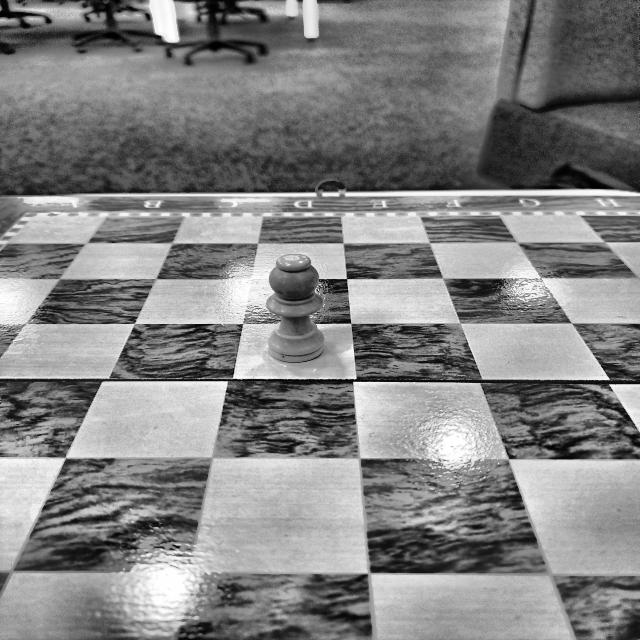white-bishop: (267, 255, 326, 363)
